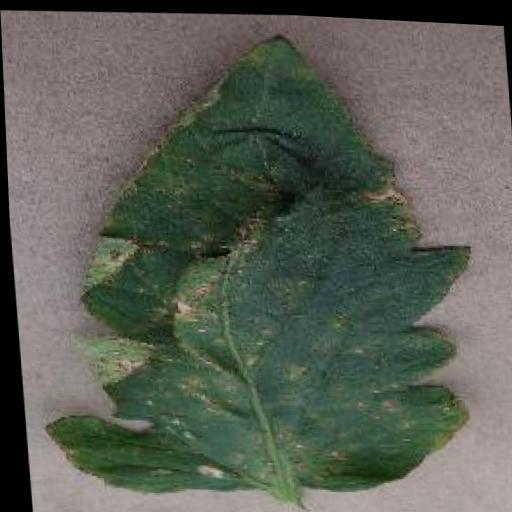Bacterial Spot: (10, 5, 493, 512)
